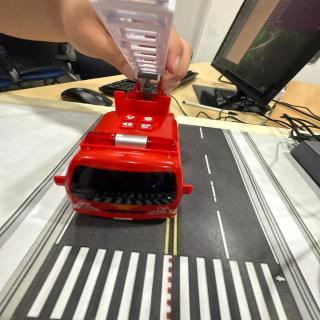Fire_truck: (54, 80, 193, 220)
